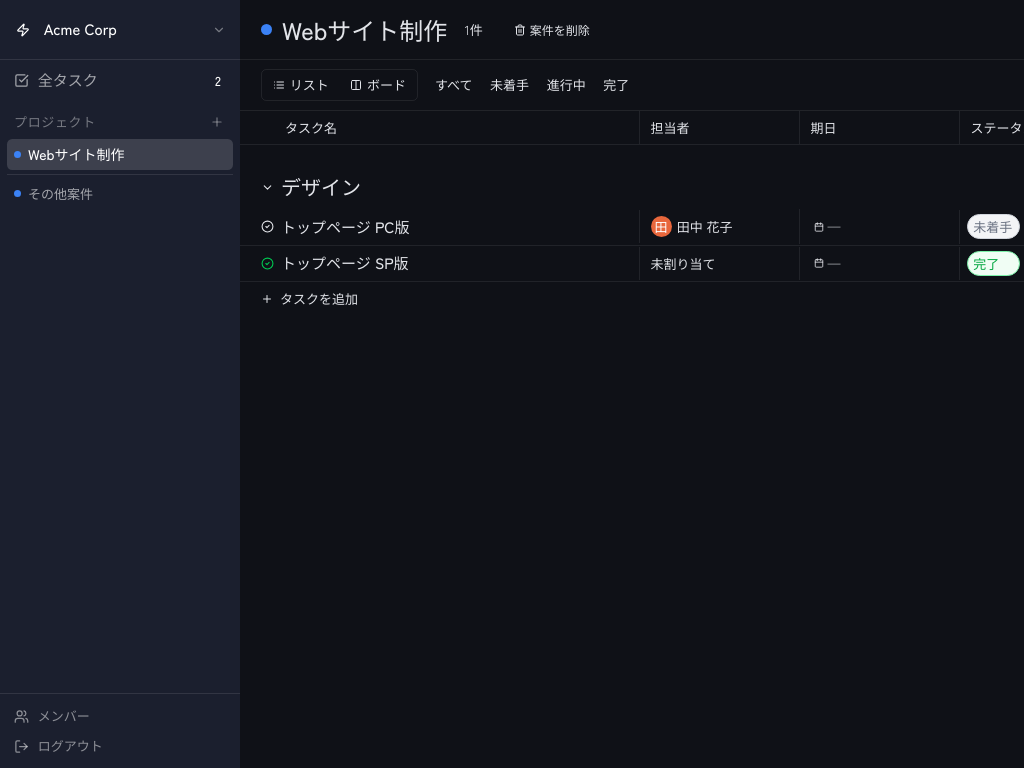
Scenario: App の主要操作 › M1 で案件を作るとテンプレートのセクションが並び、その案件が開く
Expected: the heading "Webサイト制作" is shown, [282,12,447,48]
Click the button named "プロジェクトを追加".
click(217, 122)  # box [208,113,226,131]
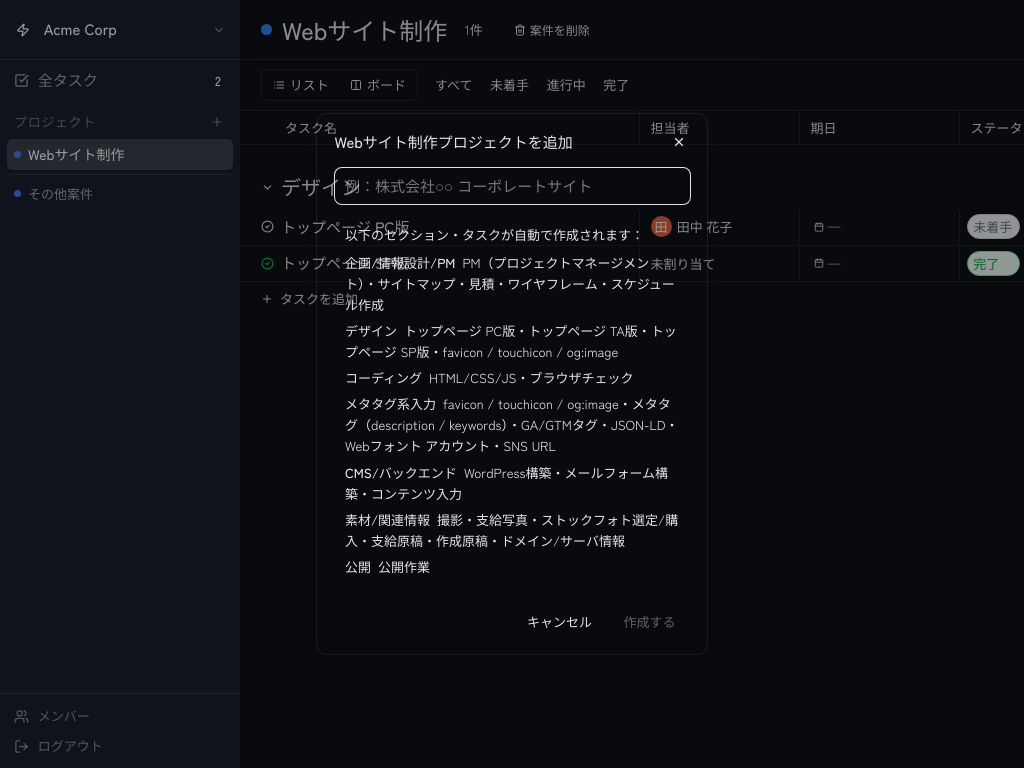
Type "新規案件" into the field with placeholder "例：株式会社○○ コーポレートサイト".
click(512, 186); type("新規案件")  # box [334,168,690,204]
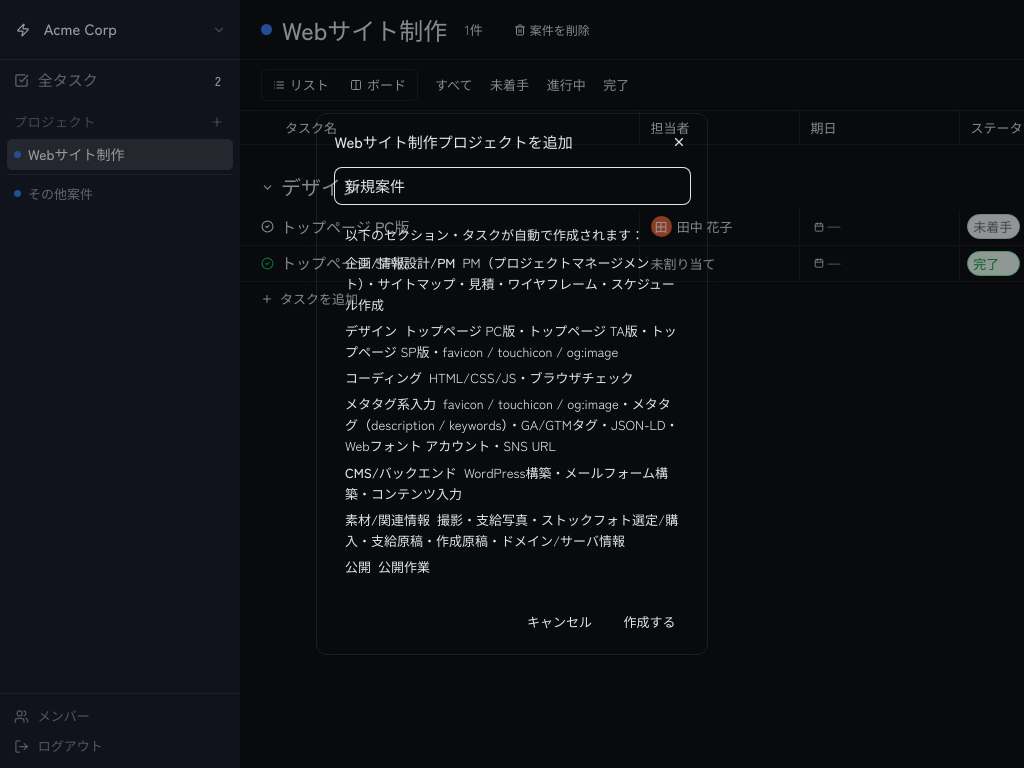
Click the button "作成する".
click(650, 622)  # box [610,607,690,637]
(page scrolled)
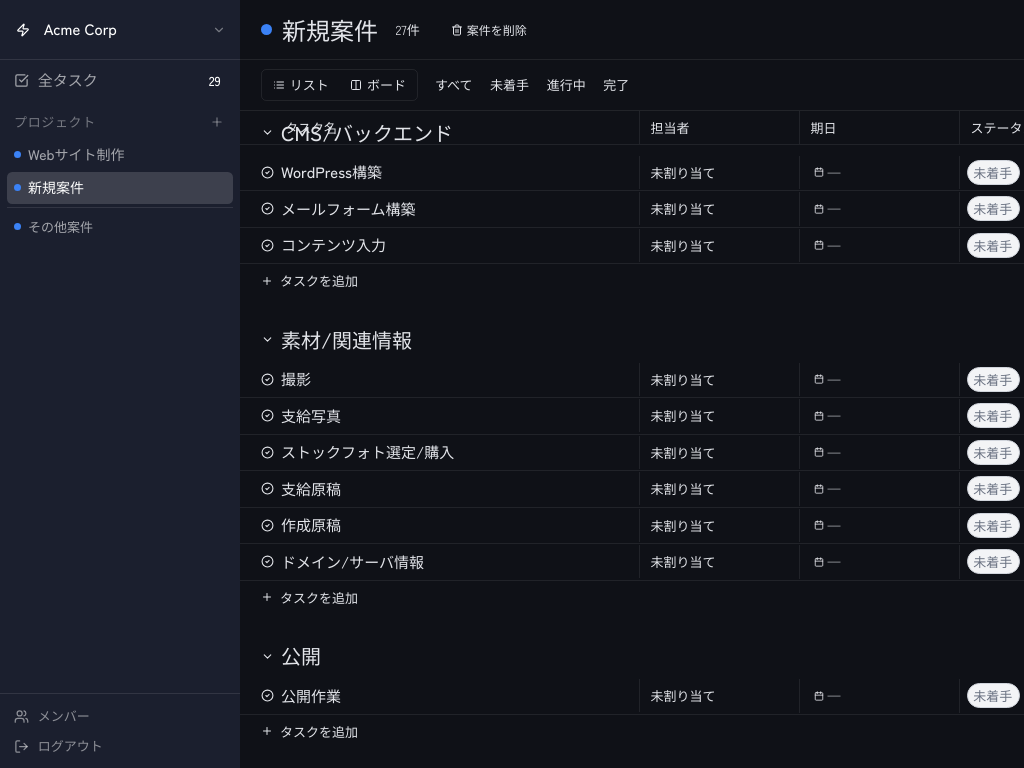
Expected: the text "公開" is shown, [281,641,321,671]
Expected: the heading "新規案件" is shown, [282,12,378,48]
